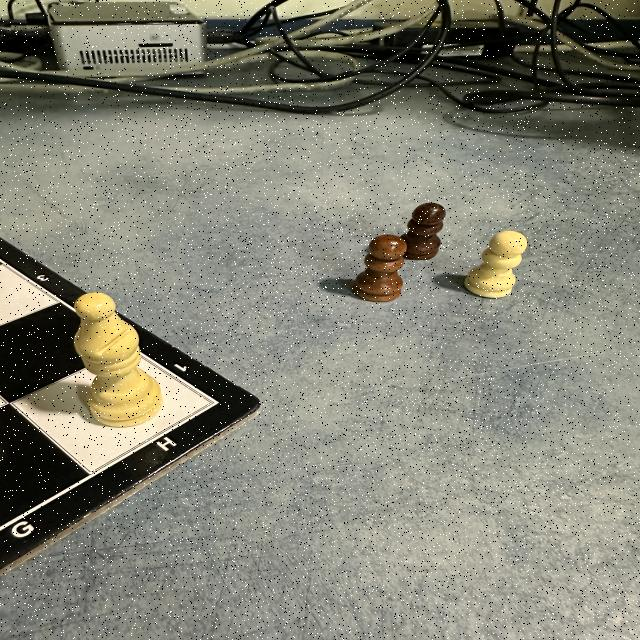Black-Bishop: (74, 292, 162, 428)
Black-Pawn: (356, 234, 406, 302), (403, 202, 446, 260)
White-Pawn: (464, 230, 528, 298)
